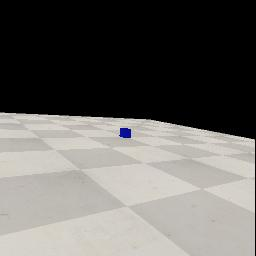box: (119, 128, 131, 138)
